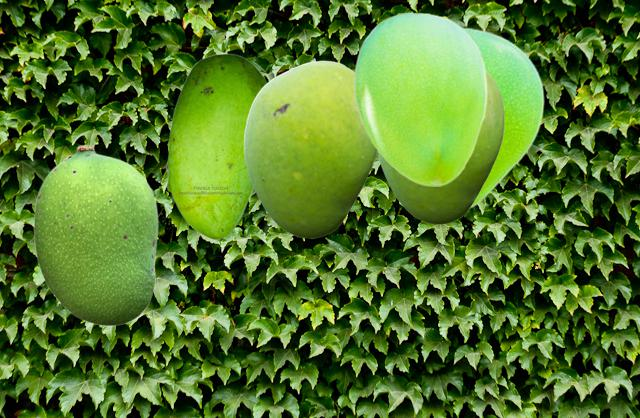green_mango: (243, 60, 377, 237), (353, 12, 486, 185), (33, 144, 157, 325), (376, 70, 503, 223), (165, 53, 267, 239), (463, 27, 543, 208)
